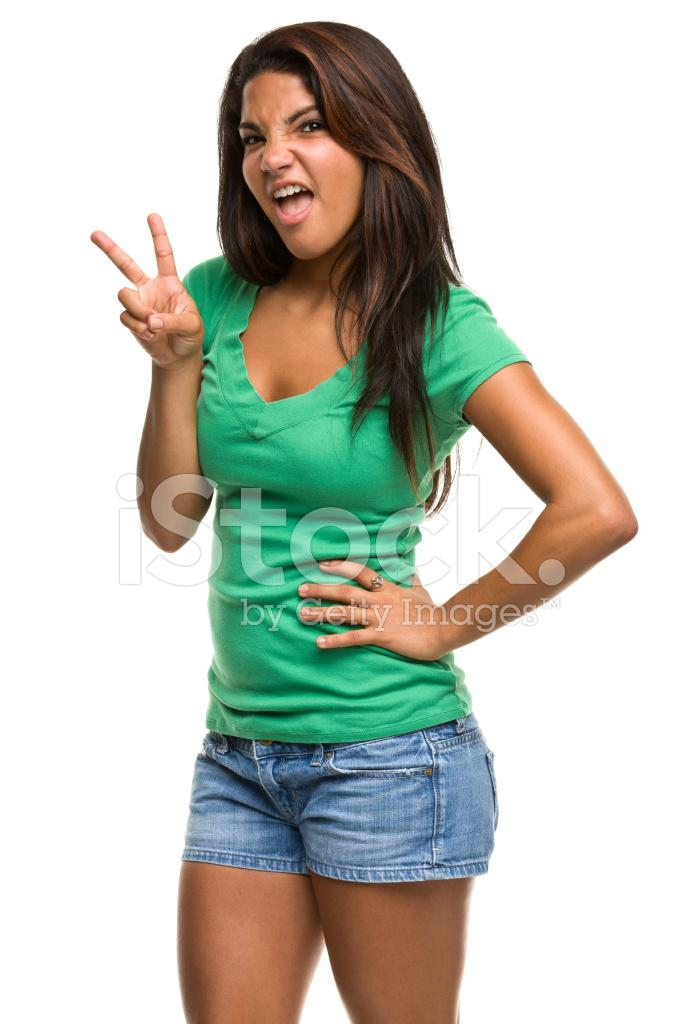peace_sign: (83, 205, 213, 371)
